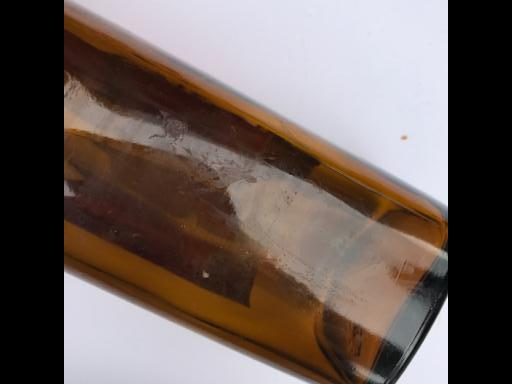glass: (73, 5, 442, 381)
